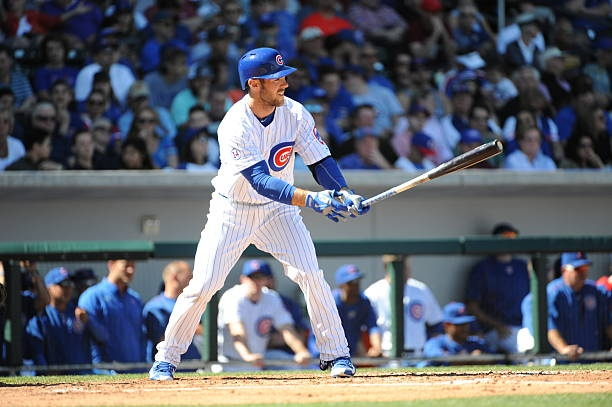bita: (361, 144, 503, 208)
